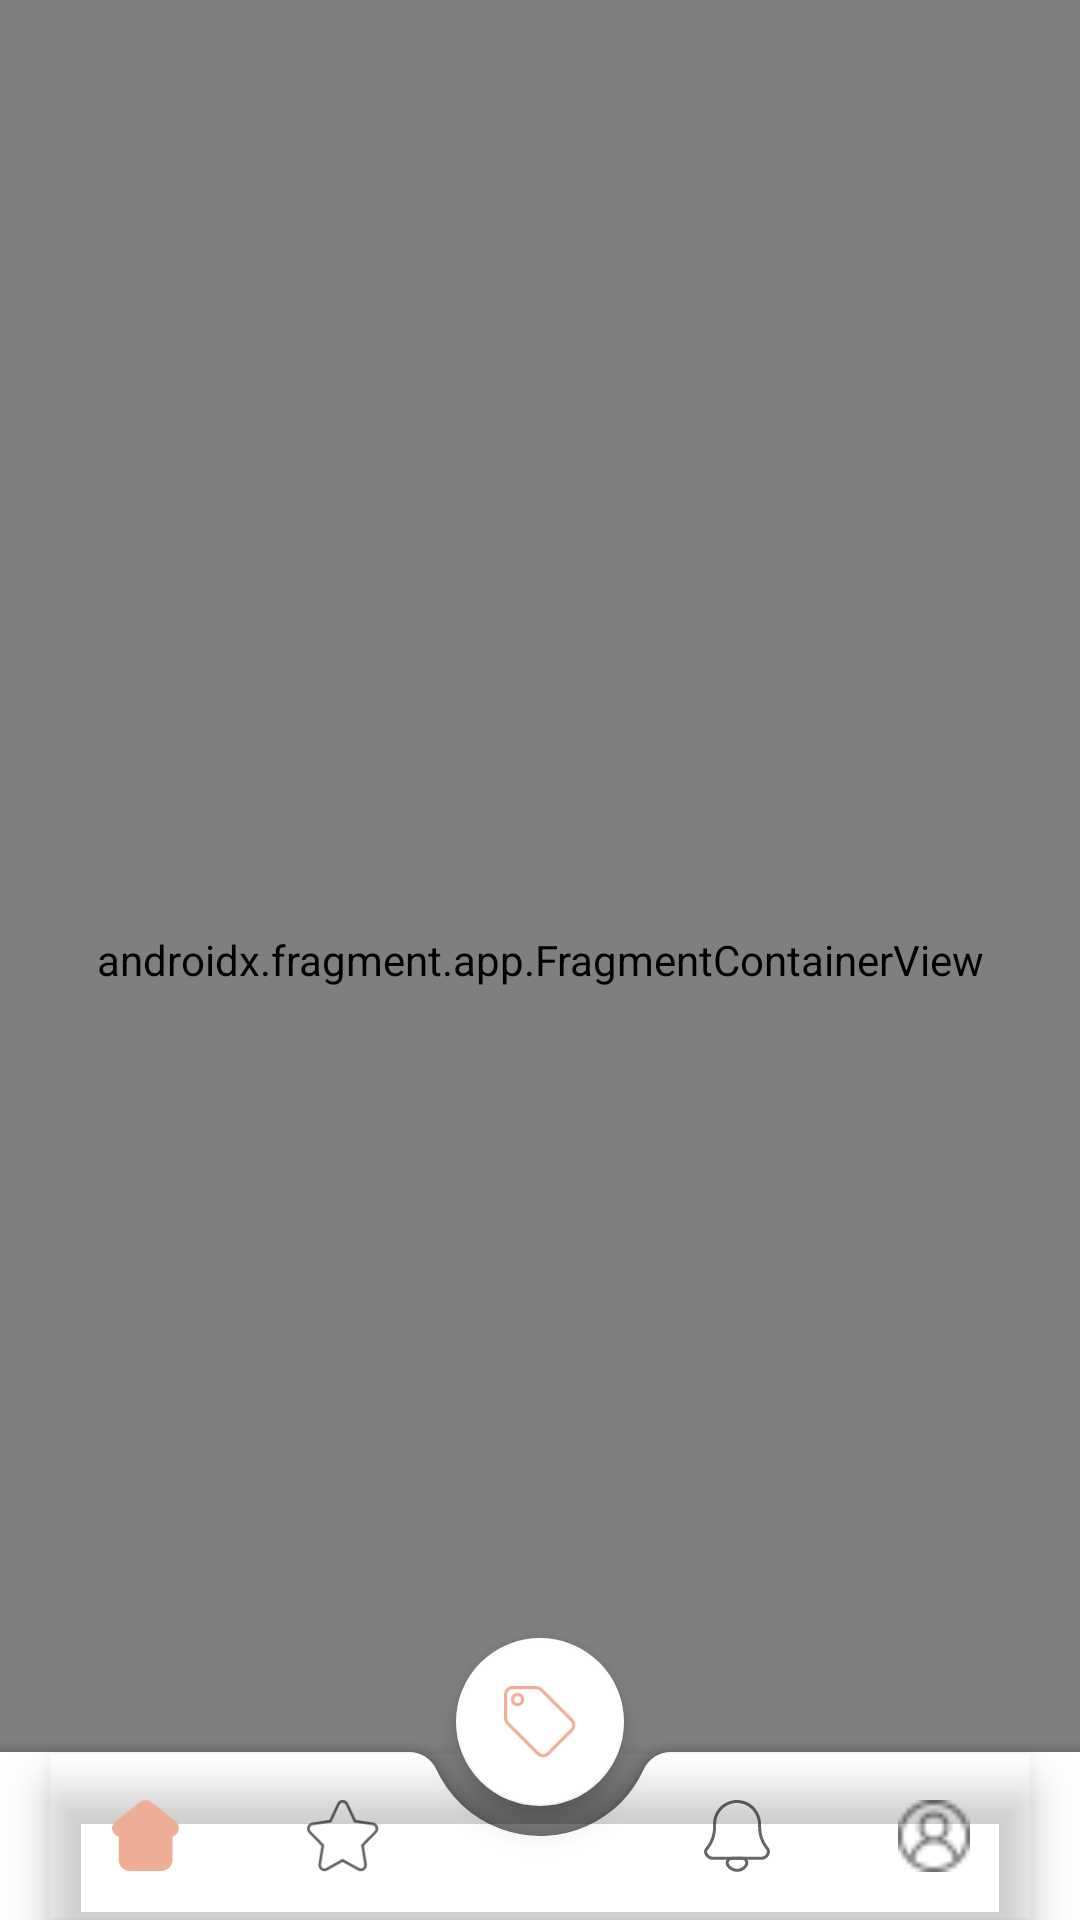

Point at icon controls on the screen. Image size 1080 × 1920, points as [x,y].
addpromotore: [540,1752]
